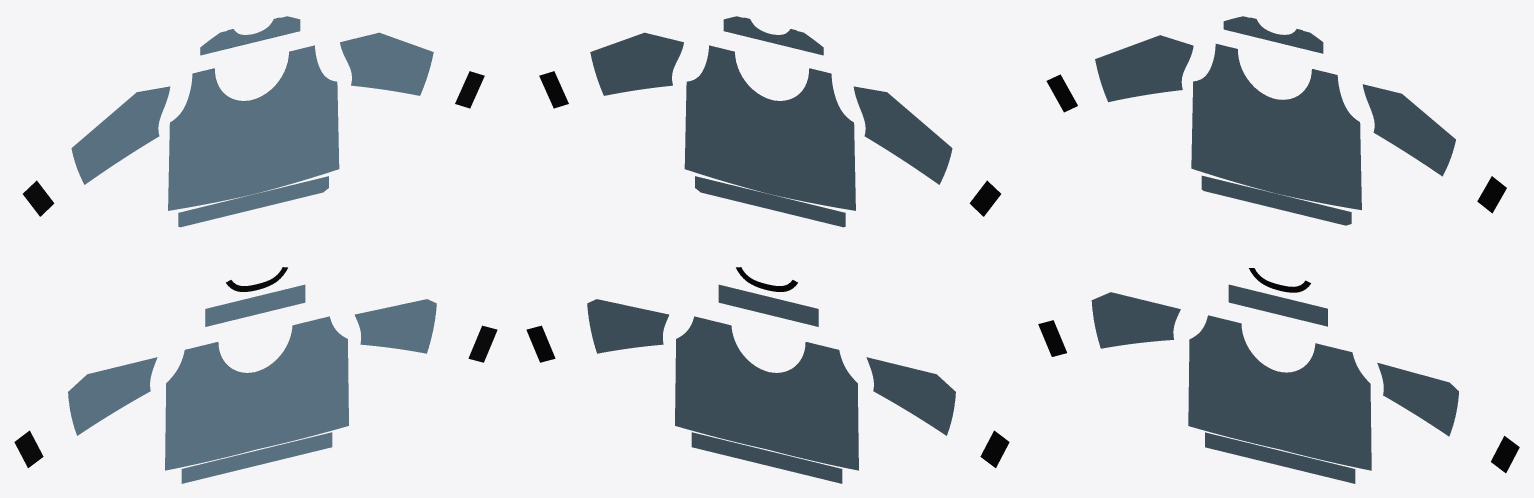
The model's file is weiyi_f.obj.
3 renders of one model, left to right at view 1: azimuth 30°, elevation 25°; view 2: azimuth 150°, elevation 25°; view 3: azimuth 330°, elevation 25°, orthographic.
Visible parts, largest first — view 1: Root_ClothPiece_Fabric_0_ClothPiece_13, Root_ClothPiece_Fabric_0_ClothPiece_0, Root_ClothPiece_Fabric_0_ClothPiece_12, Root_ClothPiece_Fabric_0_ClothPiece_7, Root_ClothPiece_Fabric_0_ClothPiece_11, Root_ClothPiece_Fabric_0_ClothPiece_8, Root_ClothPiece_Fabric_1_ClothPiece_3, Root_ClothPiece_Fabric_1_ClothPiece_10, Root_ClothPiece_Fabric_1_ClothPiece_2, Root_ClothPiece_Fabric_1_ClothPiece_5, Root_ClothPiece_Fabric_1_ClothPiece_6, Root_ClothPiece_Fabric_1_ClothPiece_9; view 2: Root_ClothPiece_Fabric_0_ClothPiece_13, Root_ClothPiece_Fabric_0_ClothPiece_0, Root_ClothPiece_Fabric_0_ClothPiece_12, Root_ClothPiece_Fabric_0_ClothPiece_7, Root_ClothPiece_Fabric_0_ClothPiece_11, Root_ClothPiece_Fabric_0_ClothPiece_8, Root_ClothPiece_Fabric_1_ClothPiece_3, Root_ClothPiece_Fabric_1_ClothPiece_10, Root_ClothPiece_Fabric_1_ClothPiece_2, Root_ClothPiece_Fabric_1_ClothPiece_5, Root_ClothPiece_Fabric_1_ClothPiece_6, Root_ClothPiece_Fabric_1_ClothPiece_9; view 3: Root_ClothPiece_Fabric_0_ClothPiece_13, Root_ClothPiece_Fabric_0_ClothPiece_0, Root_ClothPiece_Fabric_0_ClothPiece_12, Root_ClothPiece_Fabric_0_ClothPiece_7, Root_ClothPiece_Fabric_0_ClothPiece_11, Root_ClothPiece_Fabric_0_ClothPiece_8, Root_ClothPiece_Fabric_1_ClothPiece_3, Root_ClothPiece_Fabric_1_ClothPiece_10, Root_ClothPiece_Fabric_1_ClothPiece_9, Root_ClothPiece_Fabric_1_ClothPiece_6, Root_ClothPiece_Fabric_1_ClothPiece_5, Root_ClothPiece_Fabric_1_ClothPiece_2.
Boxes of the visible parts, x1,y1,x2,y2 form: Root_ClothPiece_Fabric_0_ClothPiece_13: [165, 284, 348, 470]; Root_ClothPiece_Fabric_0_ClothPiece_0: [168, 16, 339, 210]; Root_ClothPiece_Fabric_0_ClothPiece_12: [71, 86, 170, 184]; Root_ClothPiece_Fabric_0_ClothPiece_7: [340, 32, 433, 95]; Root_ClothPiece_Fabric_0_ClothPiece_11: [68, 357, 157, 435]; Root_ClothPiece_Fabric_0_ClothPiece_8: [355, 299, 436, 353]; Root_ClothPiece_Fabric_1_ClothPiece_3: [181, 432, 332, 483]; Root_ClothPiece_Fabric_1_ClothPiece_10: [178, 176, 328, 227]; Root_ClothPiece_Fabric_1_ClothPiece_2: [468, 325, 497, 362]; Root_ClothPiece_Fabric_1_ClothPiece_5: [455, 71, 484, 108]; Root_ClothPiece_Fabric_1_ClothPiece_6: [23, 180, 54, 216]; Root_ClothPiece_Fabric_1_ClothPiece_9: [14, 430, 43, 467]; Root_ClothPiece_Fabric_0_ClothPiece_13: [675, 284, 858, 470]; Root_ClothPiece_Fabric_0_ClothPiece_0: [684, 16, 855, 210]; Root_ClothPiece_Fabric_0_ClothPiece_12: [853, 86, 952, 184]; Root_ClothPiece_Fabric_0_ClothPiece_7: [590, 32, 683, 95]; Root_ClothPiece_Fabric_0_ClothPiece_11: [866, 357, 955, 435]; Root_ClothPiece_Fabric_0_ClothPiece_8: [587, 299, 668, 353]; Root_ClothPiece_Fabric_1_ClothPiece_3: [691, 432, 842, 483]; Root_ClothPiece_Fabric_1_ClothPiece_10: [695, 176, 845, 227]; Root_ClothPiece_Fabric_1_ClothPiece_2: [526, 325, 555, 362]; Root_ClothPiece_Fabric_1_ClothPiece_5: [539, 71, 568, 108]; Root_ClothPiece_Fabric_1_ClothPiece_6: [969, 180, 1000, 216]; Root_ClothPiece_Fabric_1_ClothPiece_9: [980, 430, 1009, 467]; Root_ClothPiece_Fabric_0_ClothPiece_13: [1188, 284, 1371, 470]; Root_ClothPiece_Fabric_0_ClothPiece_0: [1191, 16, 1361, 210]; Root_ClothPiece_Fabric_0_ClothPiece_12: [1095, 35, 1193, 102]; Root_ClothPiece_Fabric_0_ClothPiece_7: [1362, 84, 1455, 176]; Root_ClothPiece_Fabric_0_ClothPiece_11: [1091, 292, 1180, 348]; Root_ClothPiece_Fabric_0_ClothPiece_8: [1377, 362, 1458, 436]; Root_ClothPiece_Fabric_1_ClothPiece_3: [1205, 432, 1355, 483]; Root_ClothPiece_Fabric_1_ClothPiece_10: [1201, 175, 1351, 225]; Root_ClothPiece_Fabric_1_ClothPiece_9: [1038, 320, 1066, 356]; Root_ClothPiece_Fabric_1_ClothPiece_6: [1046, 74, 1077, 112]; Root_ClothPiece_Fabric_1_ClothPiece_5: [1477, 176, 1506, 213]; Root_ClothPiece_Fabric_1_ClothPiece_2: [1491, 436, 1519, 472].
Bounding box in the file's own units: 1.68 × 1.49 × 0.
